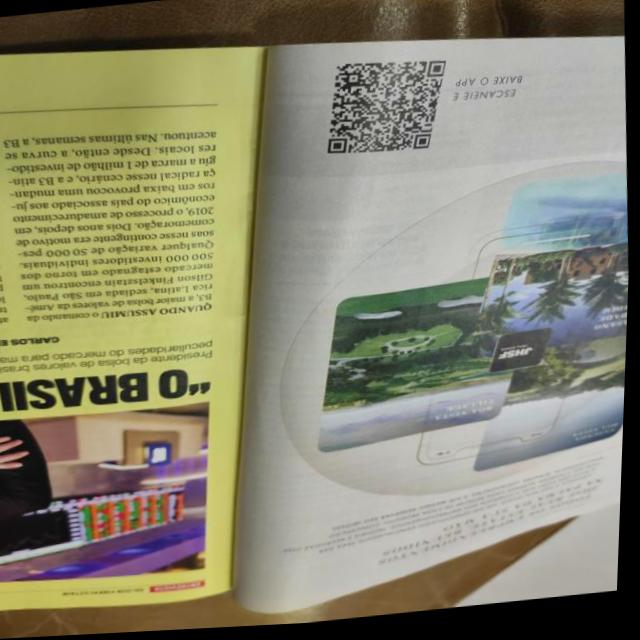qrcode: (324, 59, 451, 163)
